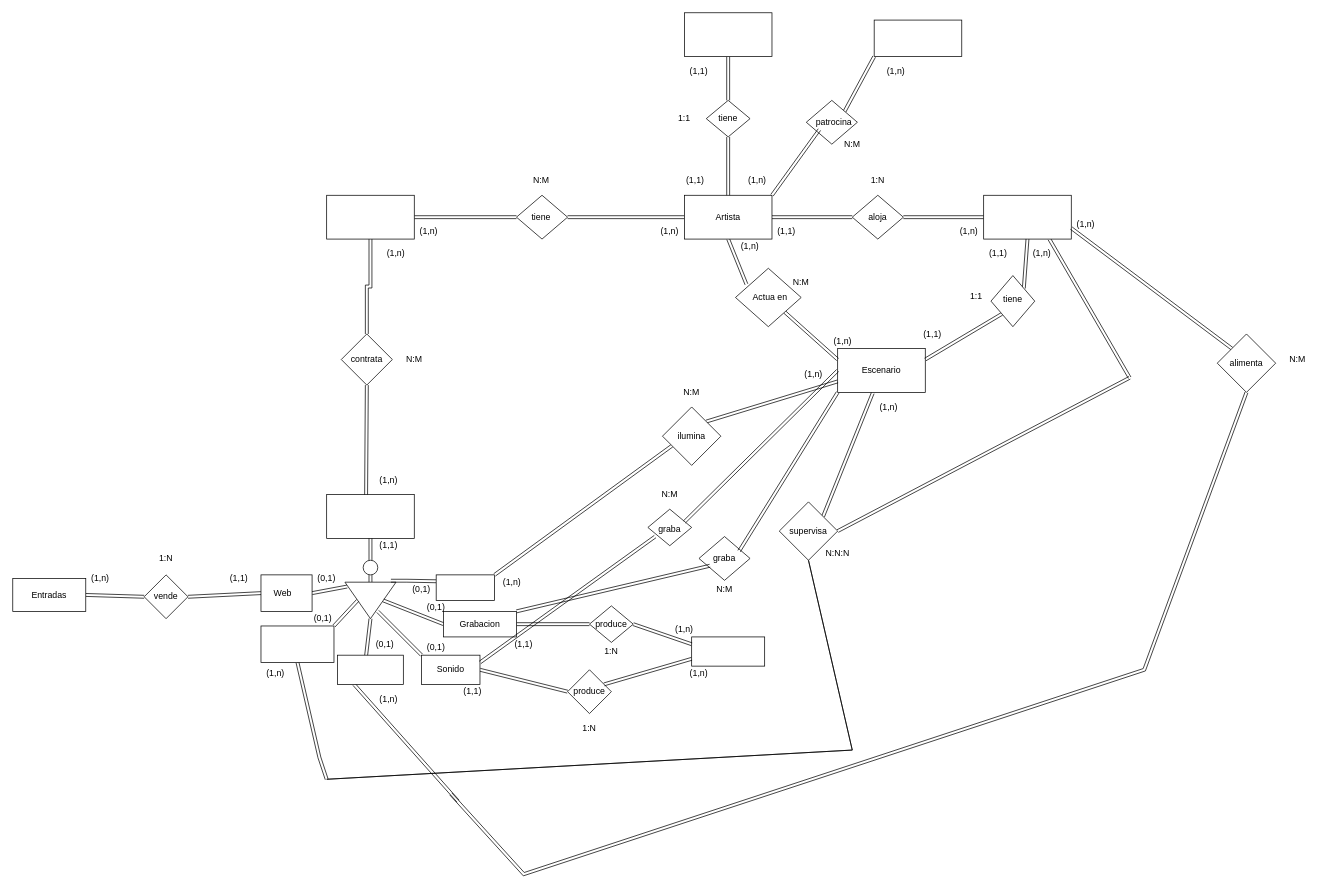
The diagram is 1325 pixels wide and 889 high, and some of its shapes have lost their labels. The shapes that lost their labels are listed below. From the top down, each one's box as (x1, y1, x2, y2) in pixels, then its label:
(684, 12, 772, 57): Merchandising
(873, 19, 962, 57): Patrocinador
(326, 195, 414, 239): Cartel
(983, 195, 1071, 239): Backstage
(326, 494, 414, 538): Empresa
(435, 574, 495, 600): Iluminacion
(260, 625, 334, 662): Seguridad
(691, 636, 765, 666): Retransmision
(337, 654, 403, 684): Catering
